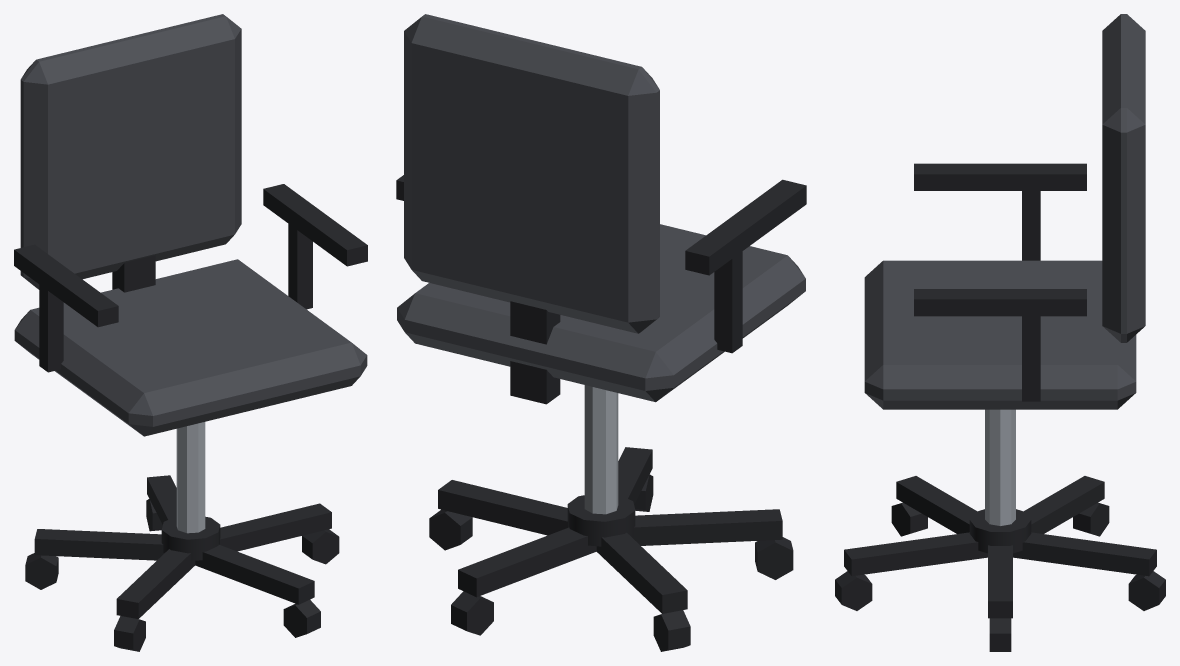
File: chair_office.glb
3 renders of one model, left to right at view 1: azimuth 30°, elevation 25°; view 2: azimuth 150°, elevation 25°; view 3: azimuth 270°, elevation 25°, orthographic. The views are drawn at different scales.
Parts seen in each view (by area): view 1: chair_office; view 2: chair_office; view 3: chair_office.
Part boxes in pixels (x1=…): chair_office: x1=14, y1=14, x2=367, y2=651; chair_office: x1=396, y1=14, x2=806, y2=651; chair_office: x1=835, y1=14, x2=1165, y2=651.
Bounding box in the file's own units: 0.536 × 0.94 × 0.5358.
1 material, 1 textured.
